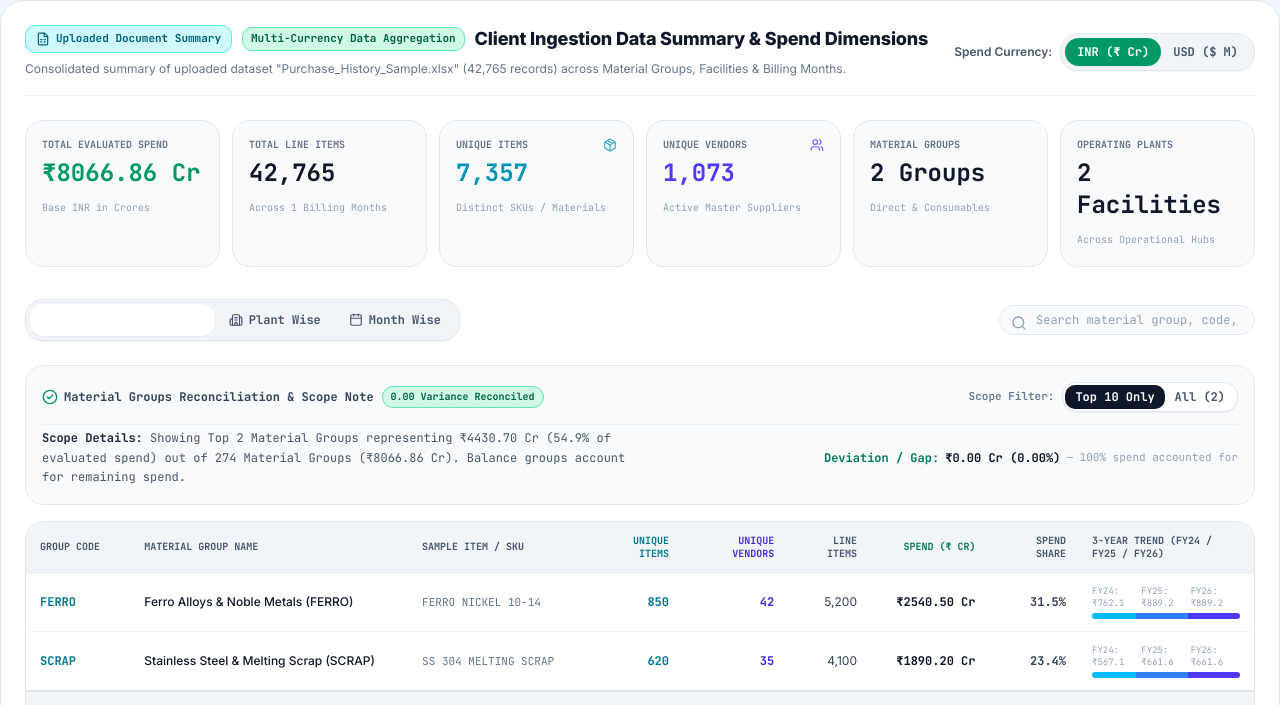
DocumentSummaryView Component › filters rows based on search input and shows empty state when no match is found
This screenshot has width=1280, height=705.
Type "SCRAP" into the field with placeholder "Search material group, code, or segment..." at (1127,320), box [999,305,1255,335]
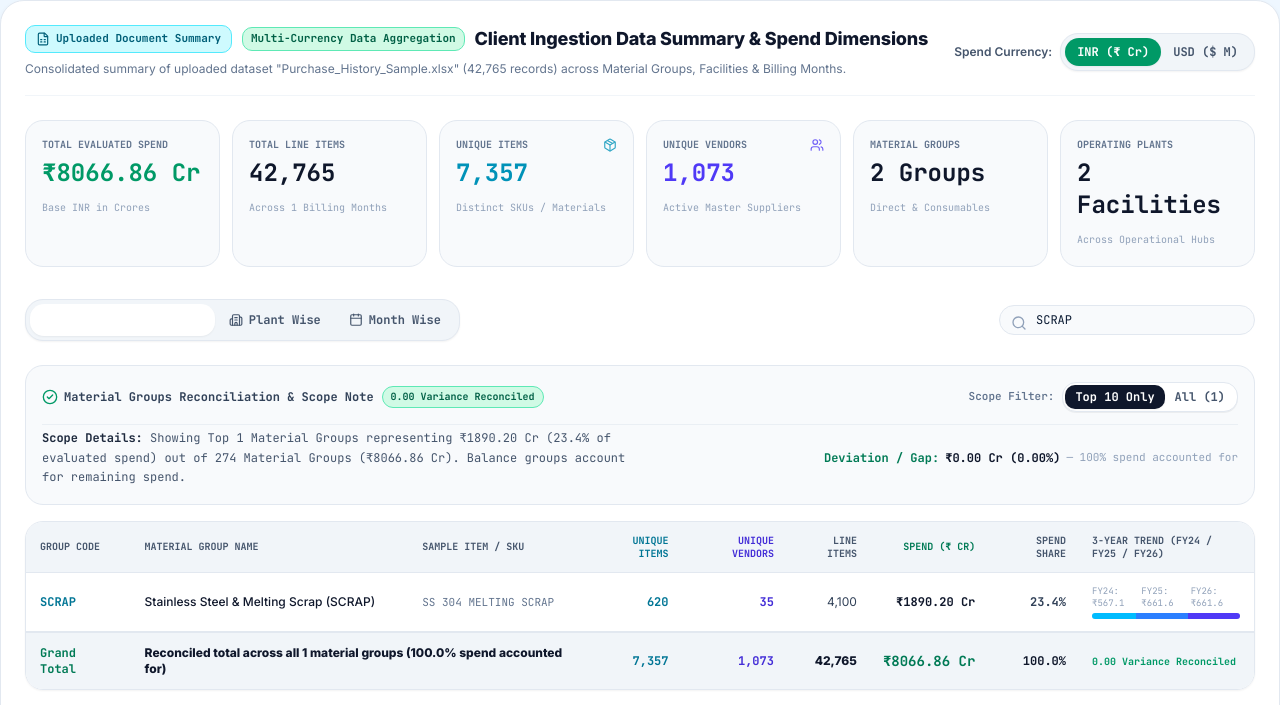
Expected: the text "Stainless Steel & Melting Scrap (SCRAP)" is shown, [131,573,408,632]
Expected: the text "Ferro Alloys & Noble Metals (FERRO)" is gone
Type query with 0 matches
Replace the text in the field with placeholder "Search material group, code, or segment..." with "NON_EXISTENT_QUERY_XYZ" at (1127,320), box [999,305,1255,335]
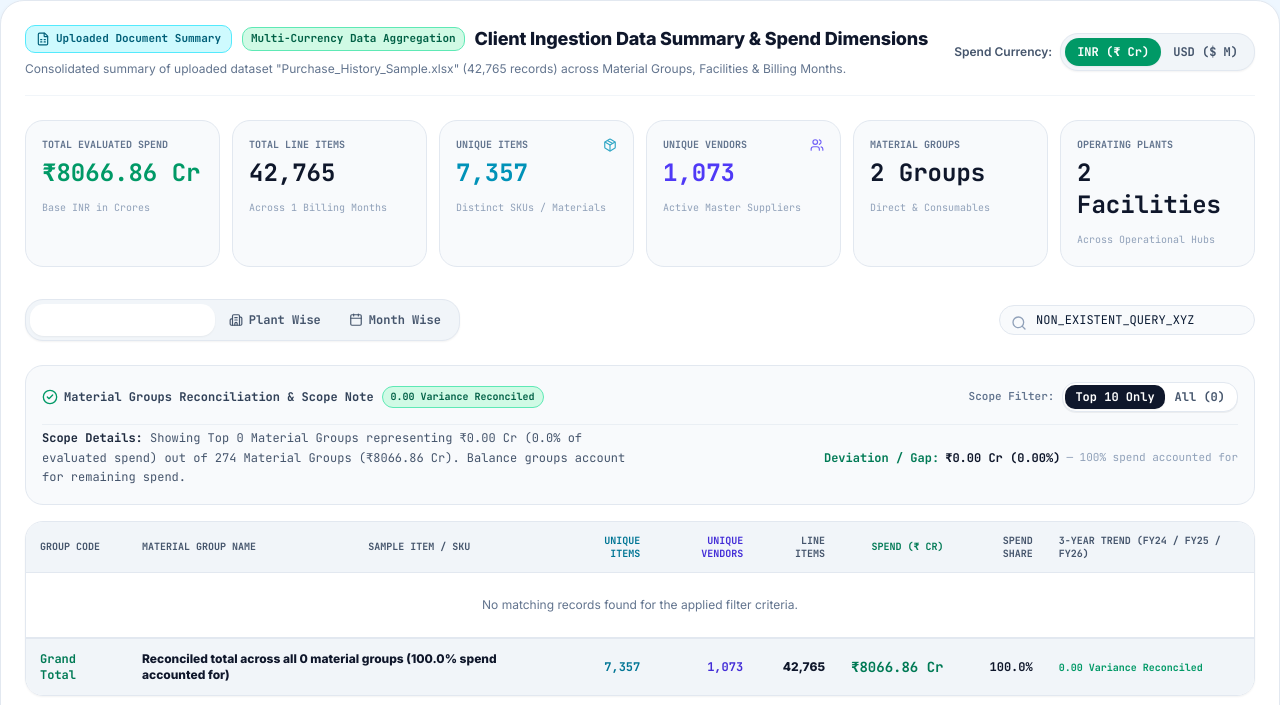
Expected: the text "No matching records found for the applied filter criteria." is shown, [26,573,1254,638]
Clear search
Clear the field with placeholder "Search material group, code, or segment..." at (1127,320), box [999,305,1255,335]
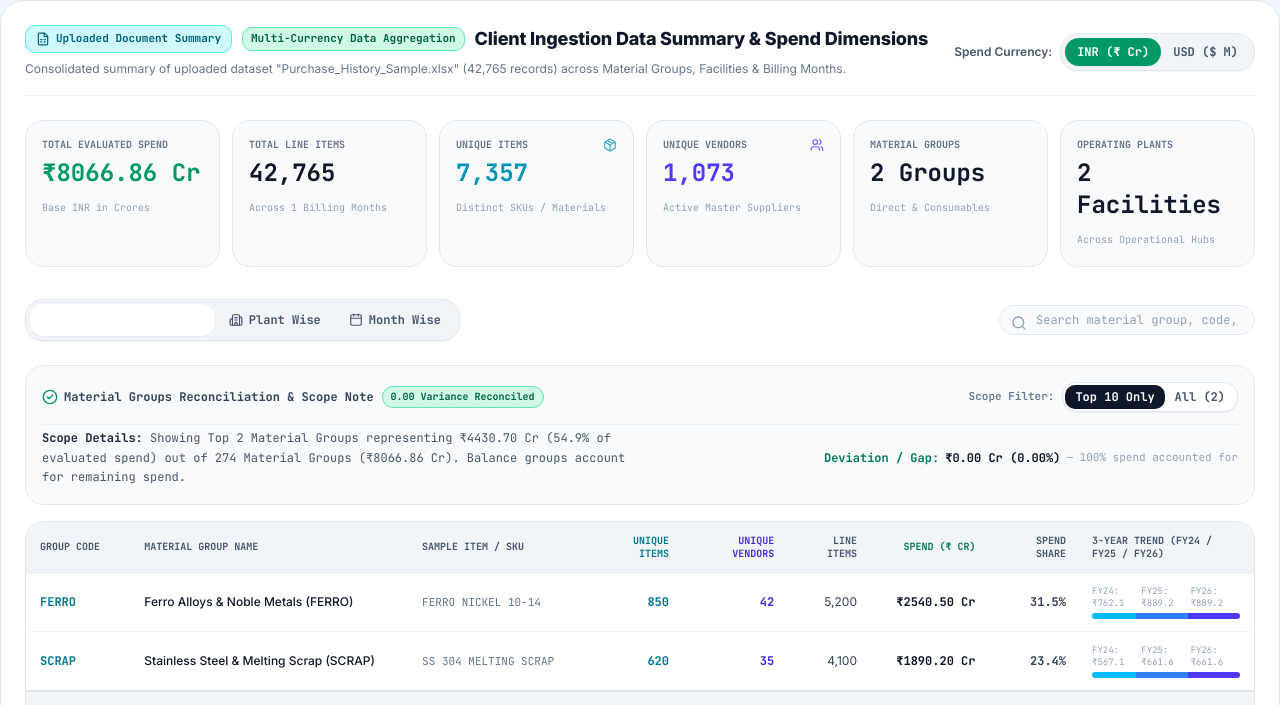
Expected: the text "Ferro Alloys & Noble Metals (FERRO)" is shown, [130,573,408,632]
